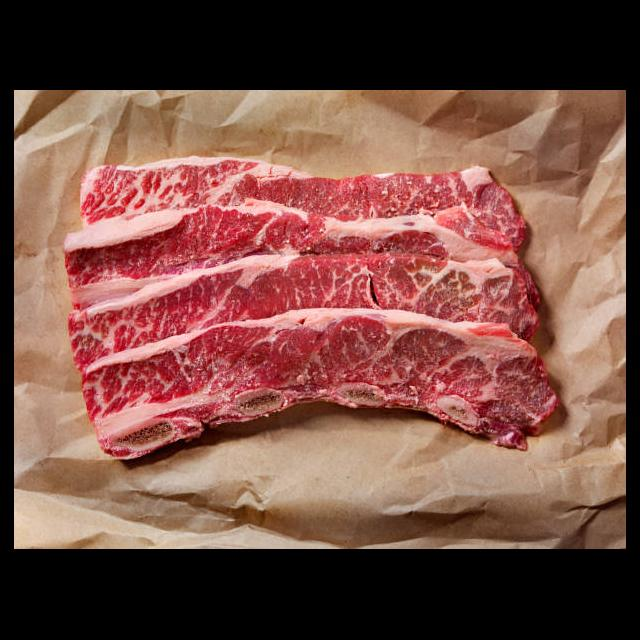beef: (60, 156, 561, 462)
